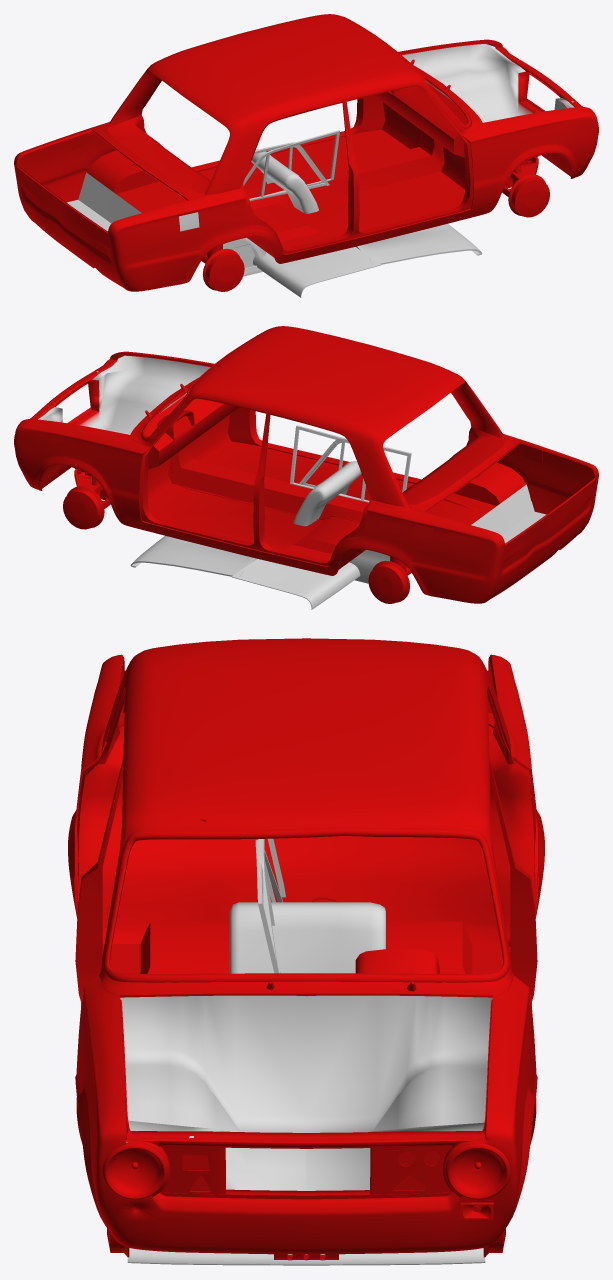
Rendered from OldCar.fbx.
3 renders of one model, top to bottom at view 1: azimuth 30°, elevation 25°; view 2: azimuth 150°, elevation 25°; view 3: azimuth 270°, elevation 25°, orthographic. The views are drawn at different scales.
Visible parts, largest first — view 1: SM_OldCar_Body, SM_OldCar_HoodR, SM_OldCar_HoodF, SM_OldCar_Seat, SM_OldCar_DoorF, SM_OldCar_Door_R; view 2: SM_OldCar_Body, SM_OldCar_HoodR, SM_OldCar_HoodF, SM_OldCar_Seat, SM_OldCar_DoorF, SM_OldCar_Door_R; view 3: SM_OldCar_Body, SM_OldCar_Seat, SM_OldCar_HoodF, SM_OldCar_Door_R, SM_OldCar_DoorF.
Part boxes in pixels (bbox=[...]): SM_OldCar_Body: bbox=[14, 14, 598, 291]; SM_OldCar_HoodR: bbox=[253, 247, 380, 297]; SM_OldCar_HoodF: bbox=[356, 223, 482, 264]; SM_OldCar_Seat: bbox=[251, 149, 318, 213]; SM_OldCar_DoorF: bbox=[223, 142, 329, 276]; SM_OldCar_Door_R: bbox=[242, 130, 339, 259]; SM_OldCar_Body: bbox=[14, 326, 598, 603]; SM_OldCar_HoodR: bbox=[232, 559, 360, 609]; SM_OldCar_HoodF: bbox=[130, 535, 256, 576]; SM_OldCar_Seat: bbox=[293, 461, 361, 526]; SM_OldCar_DoorF: bbox=[299, 438, 411, 583]; SM_OldCar_Door_R: bbox=[290, 425, 368, 502]; SM_OldCar_Body: bbox=[68, 638, 544, 1260]; SM_OldCar_Seat: bbox=[229, 902, 385, 973]; SM_OldCar_HoodF: bbox=[127, 1248, 485, 1265]; SM_OldCar_Door_R: bbox=[255, 839, 282, 973]; SM_OldCar_DoorF: bbox=[258, 838, 285, 973].
Size of what is drawn, in the model's own units: 441 by 185 by 185.
